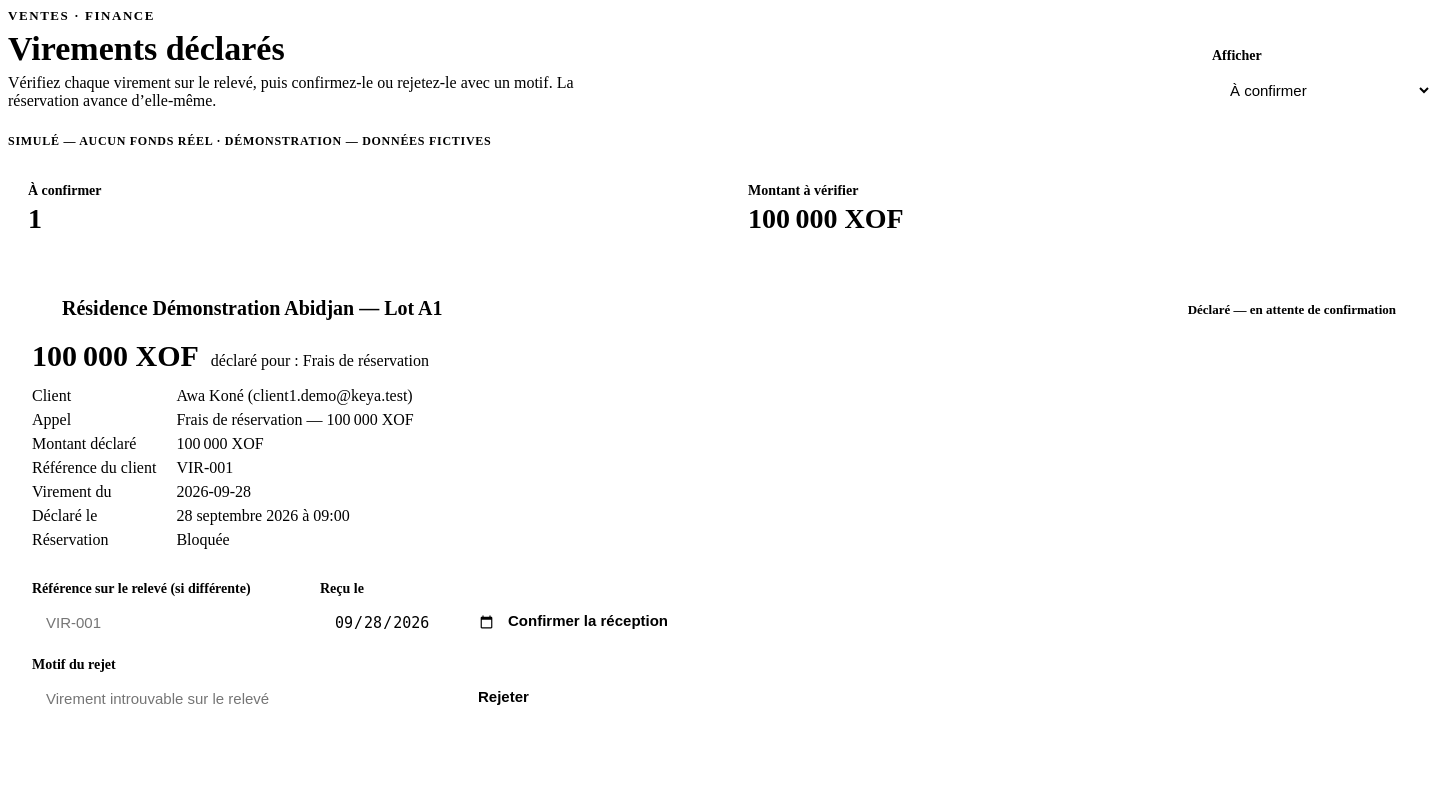
PaymentNoticesView — virements déclarés (ticket F-071) › un refus du serveur est affiché tel quel
Click the button "Confirmer la réception". click: point(588, 621)
box: [490,599,686,643]
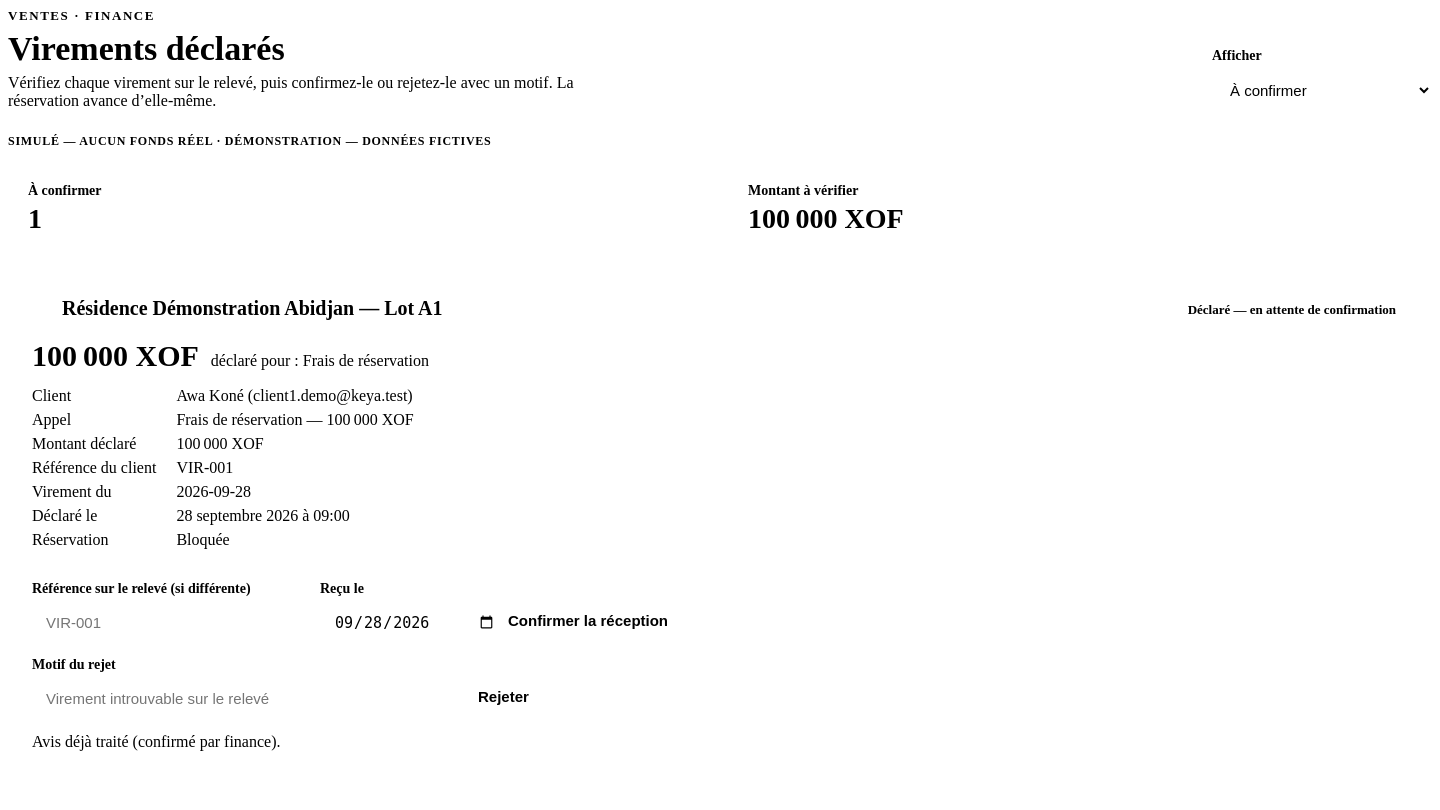
Expected: the message shows "Avis déjà traité", [32,733,280,750]
